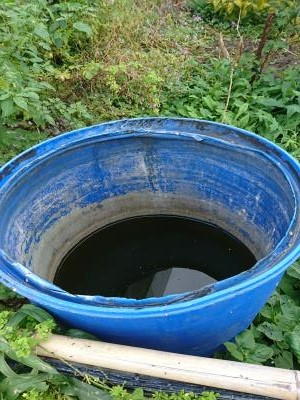bucket: (1, 114, 300, 354)
